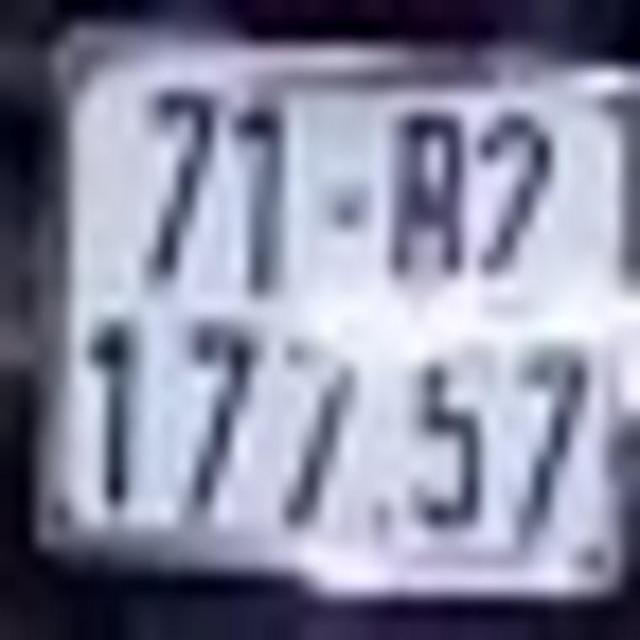1: (84, 311, 138, 520), (228, 106, 285, 297)
2: (475, 110, 557, 308)
5: (414, 350, 486, 532)
7: (514, 346, 594, 559), (182, 308, 262, 516), (280, 328, 359, 538), (142, 90, 216, 282)
B: (389, 106, 467, 305)
